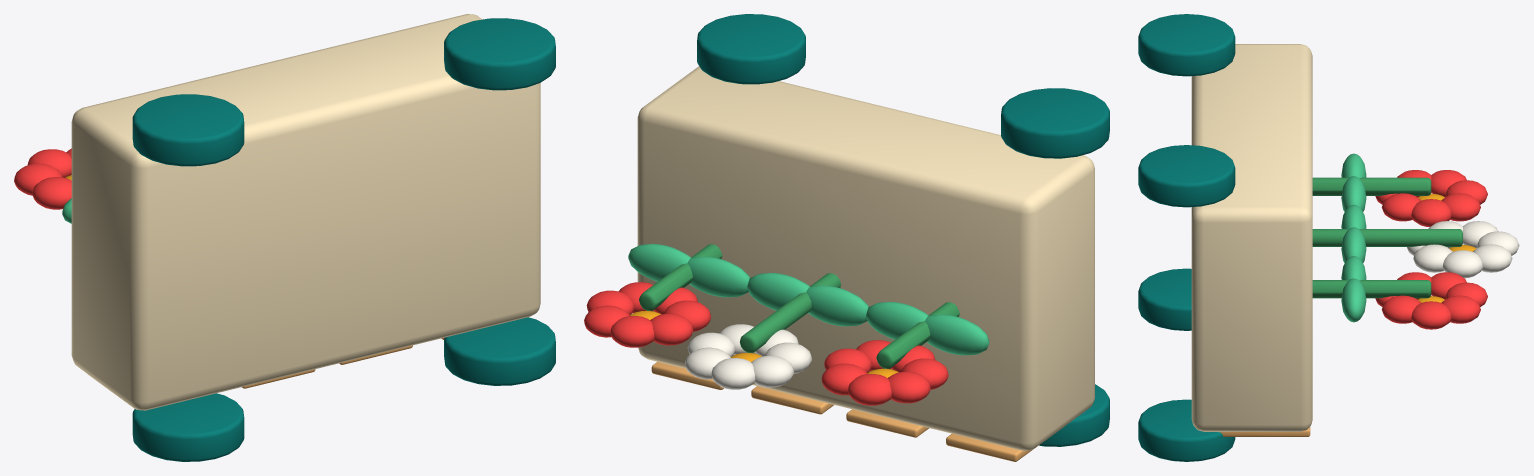
The model's file is PlayfulFlowerCart.fbx.
3 views of the same model, side by side, from view 1: azimuth 30°, elevation 25°; view 2: azimuth 150°, elevation 25°; view 3: azimuth 270°, elevation 25° (orthographic). The views are drawn at different scales.
Visible parts, largest first — view 1: PlayfulFlowerCart; view 2: PlayfulFlowerCart; view 3: PlayfulFlowerCart.
Boxes of the visible parts, x1,y1,x2,y2 form: PlayfulFlowerCart: [14, 14, 555, 461]; PlayfulFlowerCart: [584, 14, 1109, 461]; PlayfulFlowerCart: [1138, 14, 1519, 461].
Bounding box in the file's own units: 0.84 × 0.635 × 0.7871.
